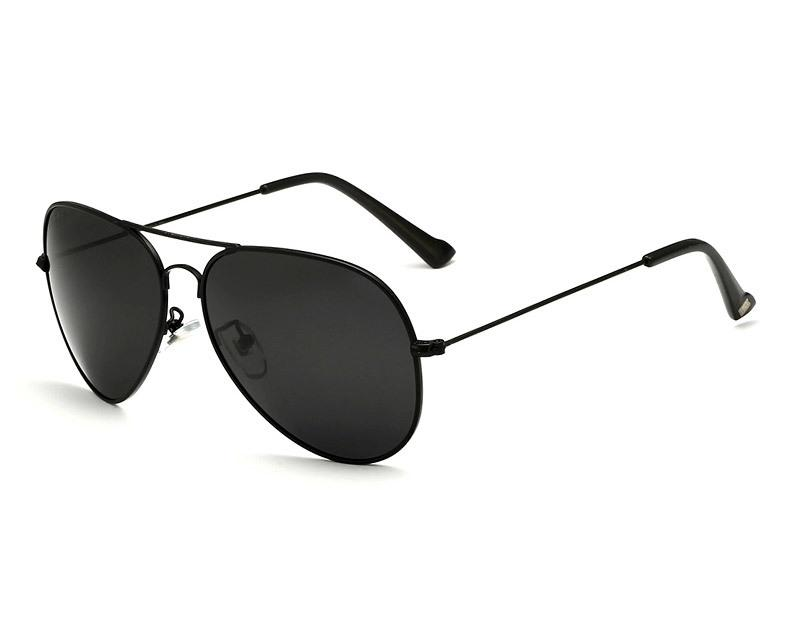sunglasses: (20, 195, 759, 451)
